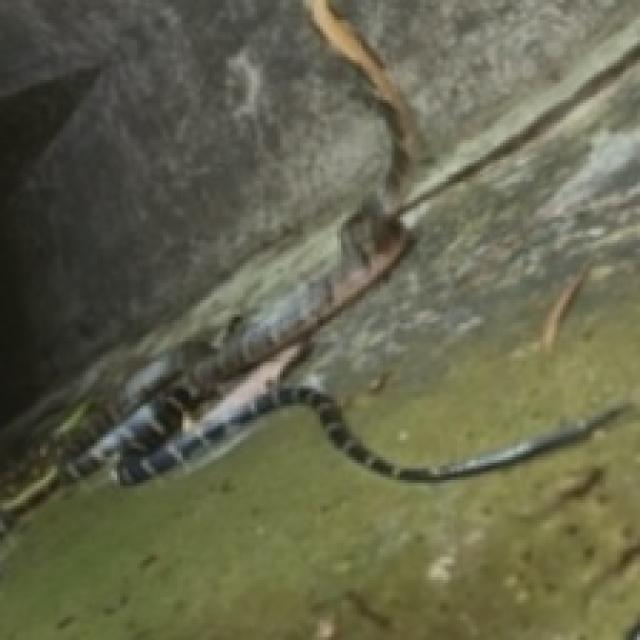king cobra: (0, 0, 386, 383), (0, 406, 637, 637), (289, 63, 637, 460), (334, 0, 637, 157)
